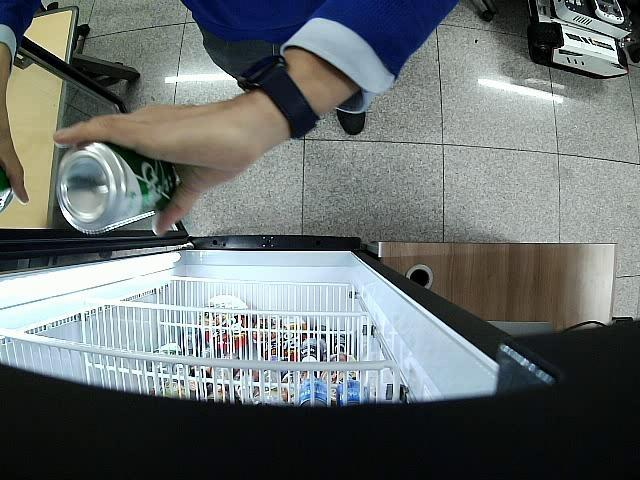12_chilsungCider: (55, 140, 177, 237)
